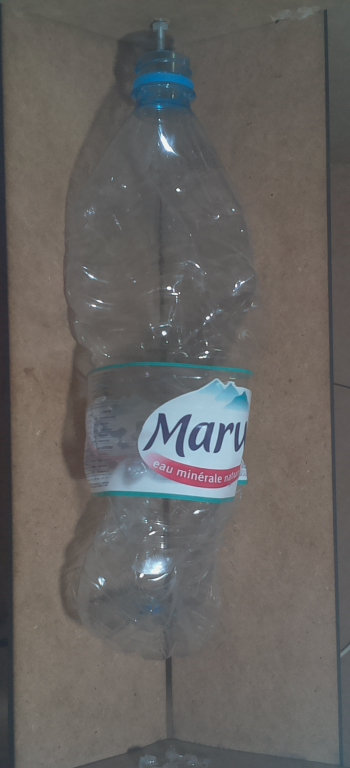Bouteille_1.5L: (56, 43, 262, 666)
